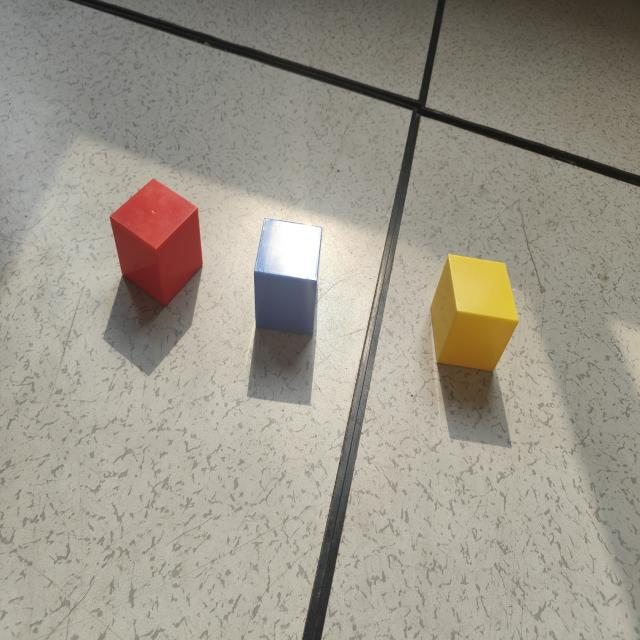blue: (250, 217, 321, 338)
red: (109, 180, 204, 310)
yellow: (430, 255, 520, 375)
